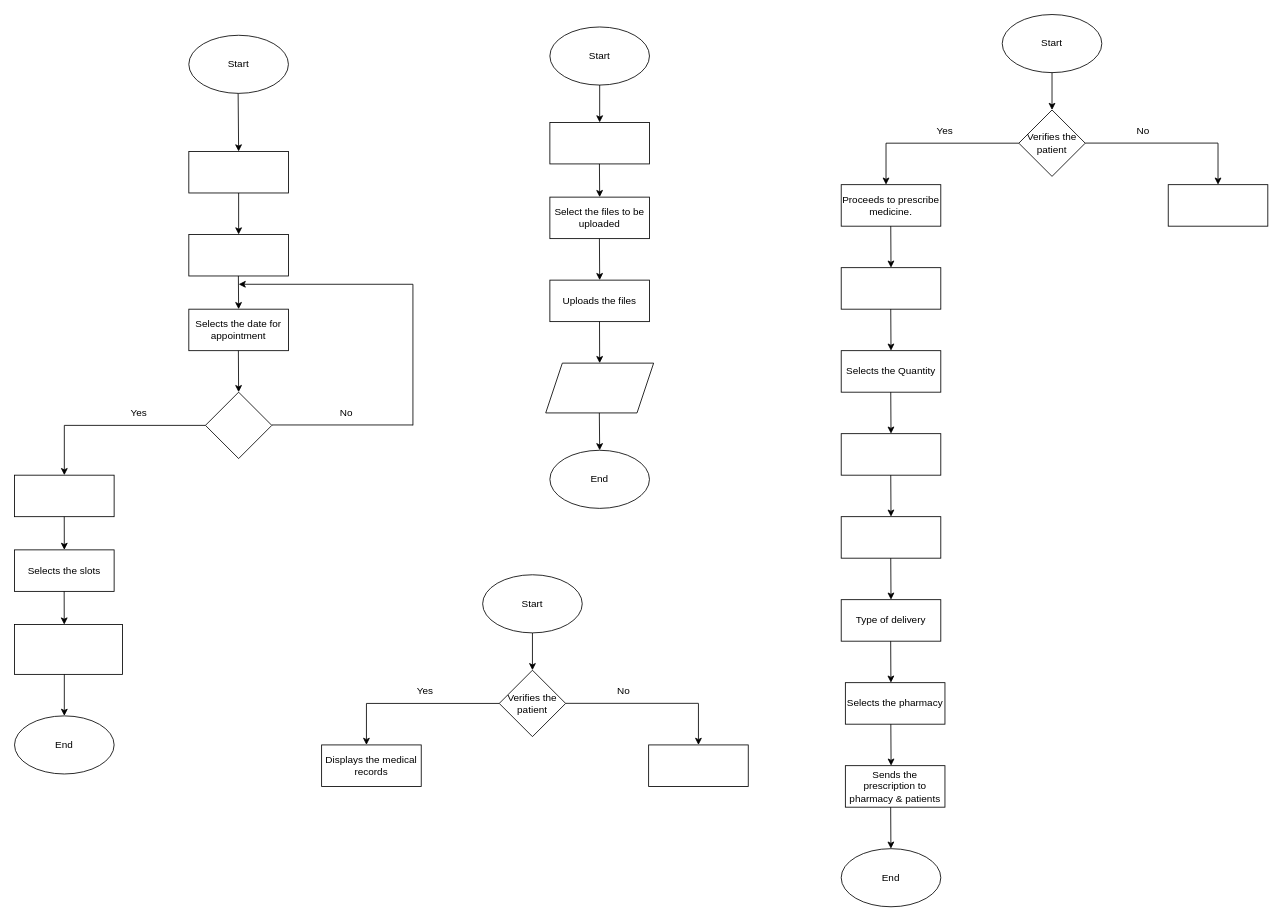
This 1282x921 diagram has some shape labels left out. Each missing label, with the centre of its shape:
Appointment is Successfully Booked: the point at 68,649
Displays the doctors available: the point at 64,495
Enter the disease description: the point at 238,172
is a Doctor Available?: the point at 238,425
Provides Instructions: the point at 890,454
Selects the Disease (Dropdown): the point at 238,255
Selects the File type (Dropdown): the point at 599,143
Selects the medicine (Drop Down): the point at 890,288
Selects the patient type: the point at 890,537
Stored in the Azure Blob storage: the point at 599,387
